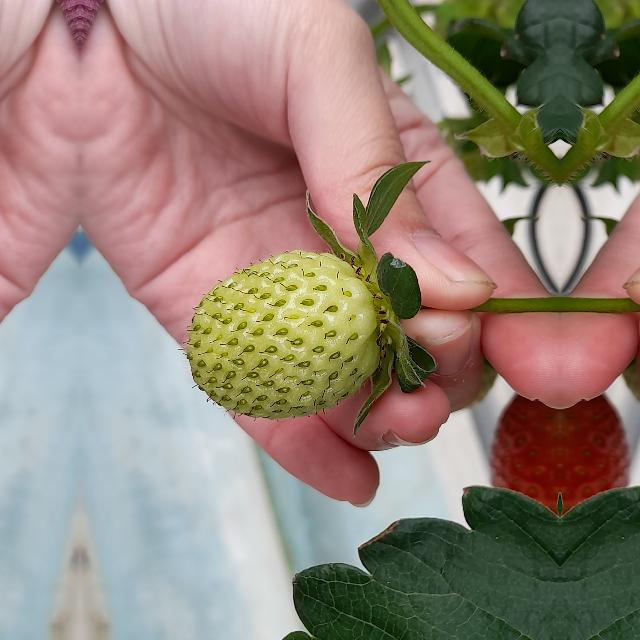Health_25: (185, 248, 382, 420)
